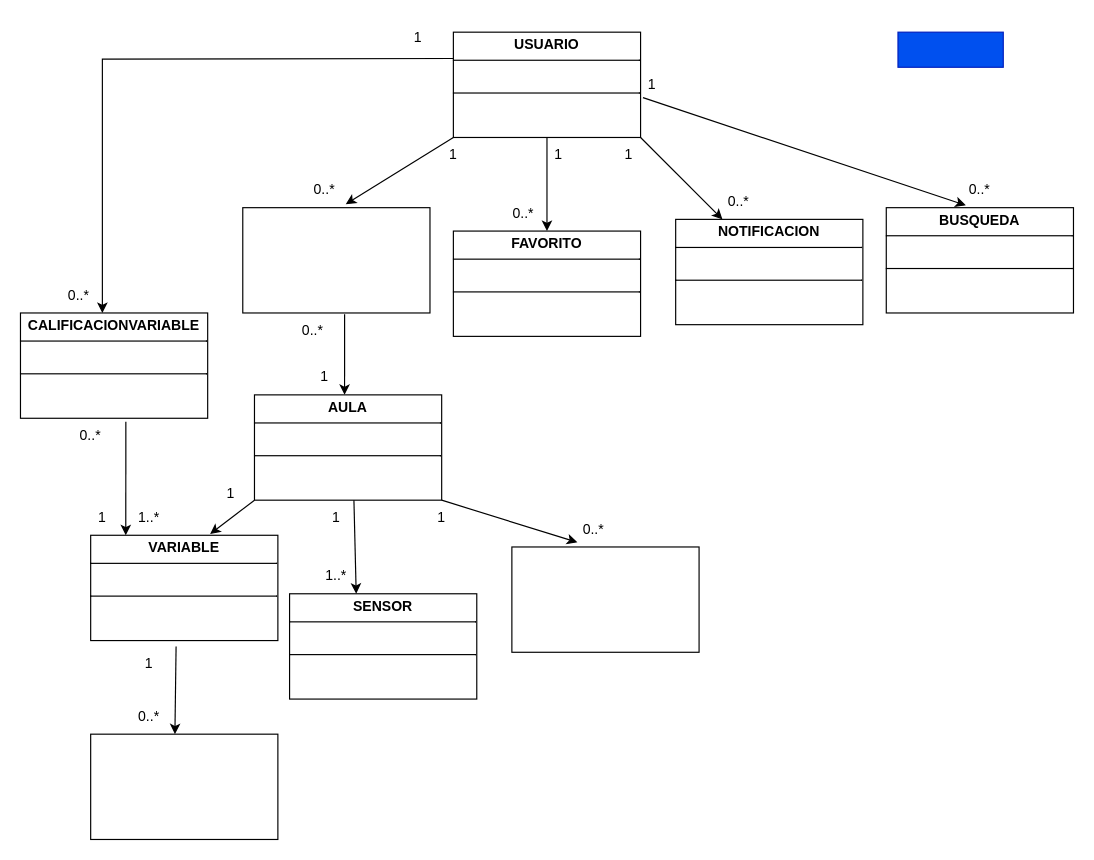
The diagram is 1094 pixels wide and 860 high, and some of its shapes have lost their labels. Each missing label, with the centre of its shape:
CALIFICACIONAULA: the point at 336,260
EduAirControl: the point at 950,49
HISTORICOVARIABLE: the point at 184,786
RANKING: the point at 605,599
